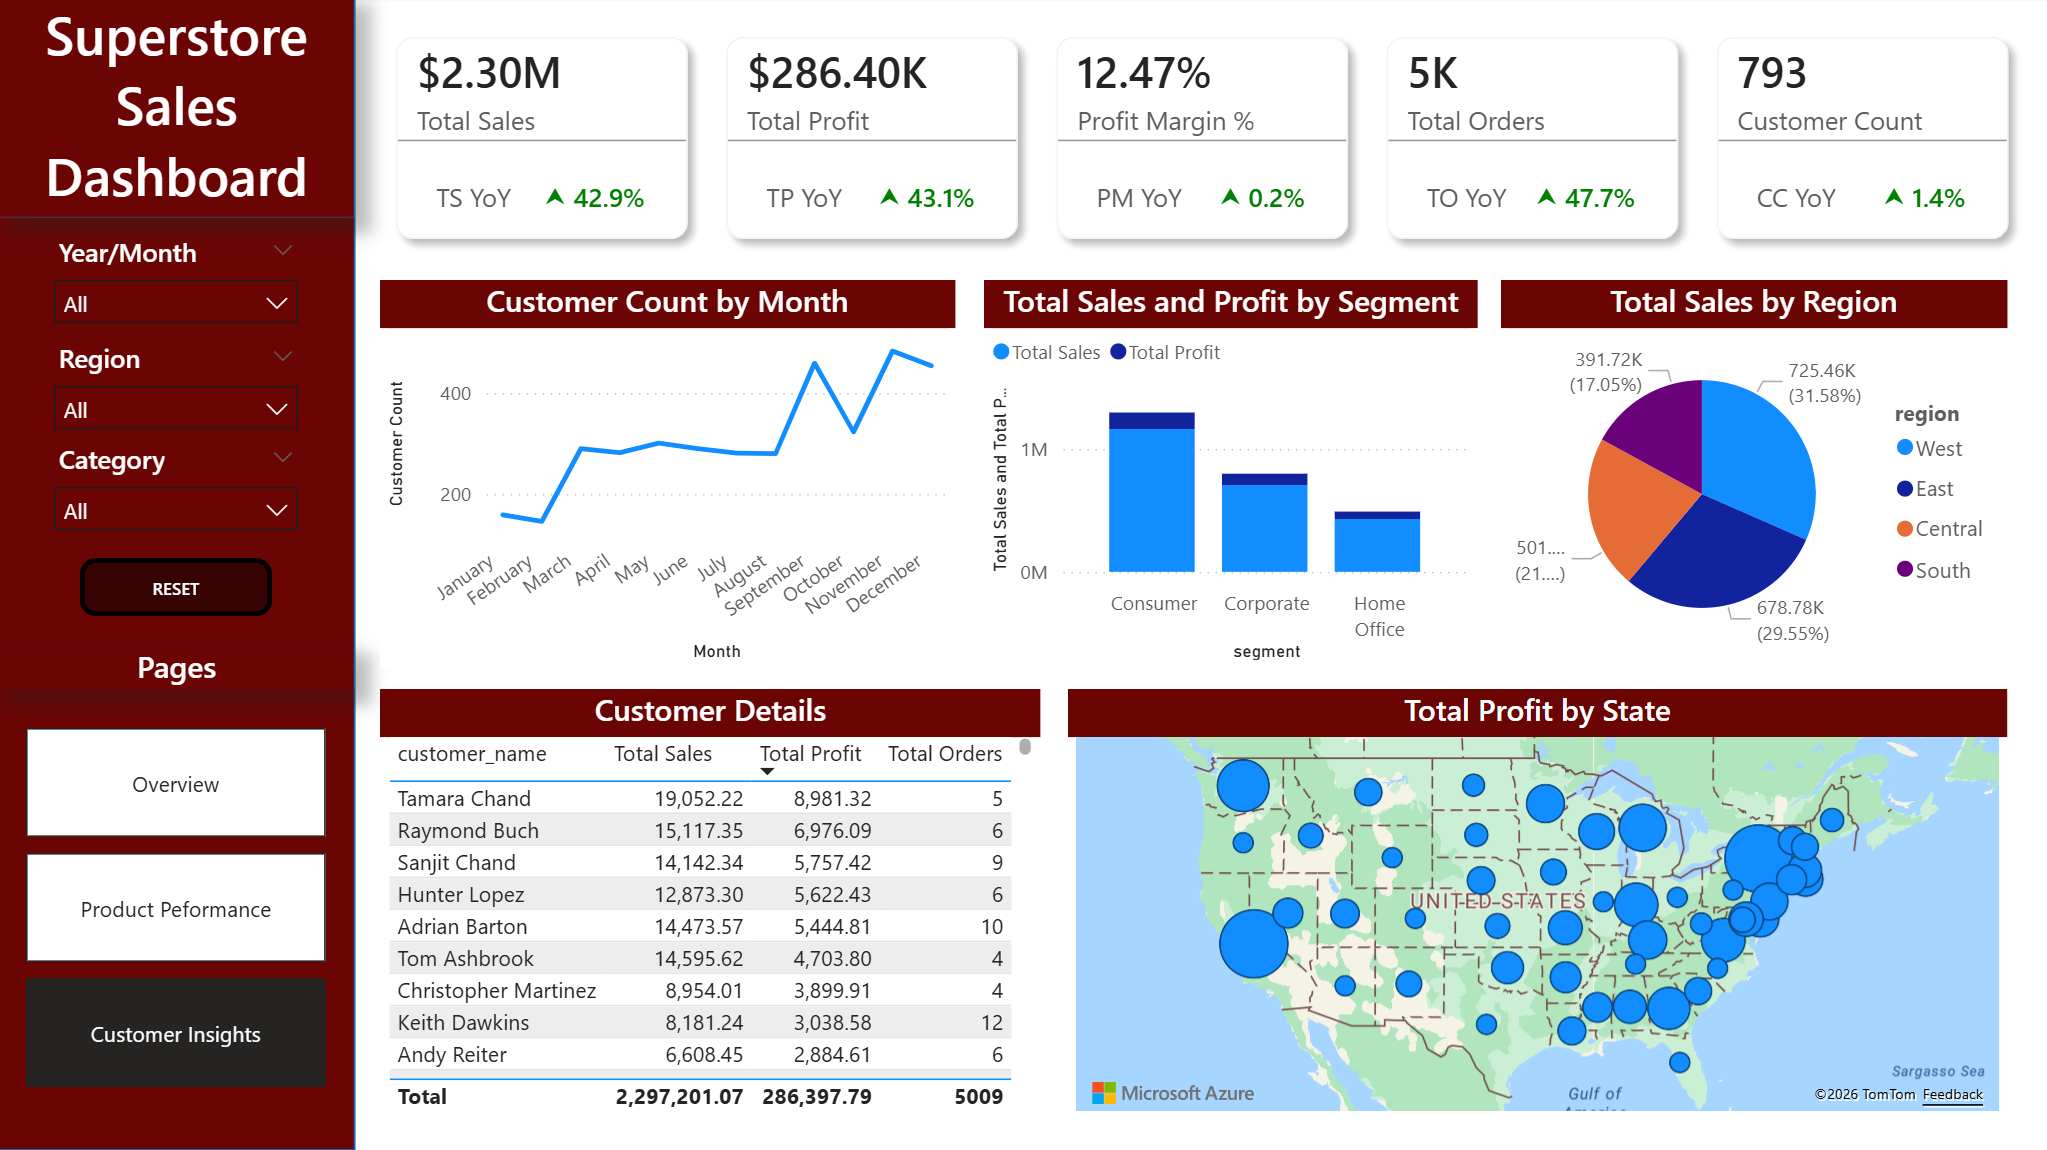

What the dashboard file says about the page in this screenshot:
{"tool":"powerbi","page":{"name":"Customer Insights","canvas":[1280,720],"ordinal":2},"visuals":[{"type":"shape","box":[0,0,222.9,719.8],"z":0},{"type":"cardVisual","title":"dad","fields":{"Data":["bi fact_orders.Total Sales","bi fact_orders.Total Profit","bi fact_orders.Profit Margin %","bi fact_orders.Total Orders","bi fact_orders.Customer Count"]},"box":[223.1,0,1056.9,176.7],"z":1000},{"type":"shape","title":"Superstore Sales Dashboard","box":[0,0,222.9,137.5],"z":2000},{"type":"slicer","fields":{"Values":["bi dim_date.date_value.Variation.Date Hierarchy.Year","bi dim_date.date_value.Variation.Date Hierarchy.Month"]},"box":[25,143.8,171.9,65.6],"z":3000},{"type":"slicer","fields":{"Values":["bi dim_geography.region"]},"box":[25,209.4,171.9,63.5],"z":4000},{"type":"slicer","fields":{"Values":["bi dim_product.category"]},"box":[25,272.9,171.9,65.6],"z":5000},{"type":"actionButton","box":[51,350,119.8,36.5],"z":6000},{"type":"shape","title":"Pages","box":[0,405.2,222.9,27.1],"z":7000},{"type":"pageNavigator","box":[17.7,456.2,187.5,225],"z":8000},{"type":"columnChart","title":"Total Sales and Profit by Segment","fields":{"Y":["bi fact_orders.Total Sales","bi fact_orders.Total Profit"],"Category":["bi dim_customer.segment"]},"box":[615.2,176.6,308.2,242.1],"z":9000},{"type":"pieChart","title":"Total Sales by Region","fields":{"Y":["bi fact_orders.Total Sales"],"Category":["bi dim_geography.region"]},"box":[937.7,176.6,315.7,242.1],"z":10000},{"type":"azureMap","title":"Total Profit by State","fields":{"Category":["bi dim_geography.state"],"Size":["bi fact_orders.Total Profit"]},"box":[667.6,431.8,585.9,267.7],"z":11000},{"type":"tableEx","title":"Customer Details","fields":{"Values":["bi dim_customer.customer_name","bi fact_orders.Total Sales","bi fact_orders.Total Profit","bi fact_orders.Total Orders"]},"box":[238.3,431.8,412.4,267.7],"z":12000},{"type":"lineChart","fields":{"Y":["bi fact_orders.Customer Count"],"Category":["bi dim_date.date_value.Variation.Date Hierarchy.Month"]},"box":[238.3,176.6,358.8,242.1],"z":13000}]}

Visuals, with their boxes in screenshot pixels (x1, y1, x2, y2), scaled from the page's 1280x720 canvas onto the 2047x1150 screenshot:
shape: BBox(0, 0, 356, 1149)
"dad" cardVisual: BBox(357, 0, 2046, 282)
"Superstore Sales Dashboard" shape: BBox(0, 0, 356, 220)
slicer - bi dim_date.date_value.Variation.Date Hierarchy.Year x bi dim_date.date_value.Variation.Date Hierarchy.Month: BBox(40, 230, 315, 334)
slicer - bi dim_geography.region: BBox(40, 334, 315, 436)
slicer - bi dim_product.category: BBox(40, 436, 315, 541)
actionButton: BBox(82, 559, 273, 617)
"Pages" shape: BBox(0, 647, 356, 690)
pageNavigator: BBox(28, 729, 328, 1088)
"Total Sales and Profit by Segment" columnChart: BBox(984, 282, 1477, 669)
"Total Sales by Region" pieChart: BBox(1500, 282, 2004, 669)
"Total Profit by State" azureMap: BBox(1068, 690, 2005, 1117)
"Customer Details" tableEx: BBox(381, 690, 1041, 1117)
lineChart - bi fact_orders.Customer Count x bi dim_date.date_value.Variation.Date Hierarchy.Month: BBox(381, 282, 955, 669)
